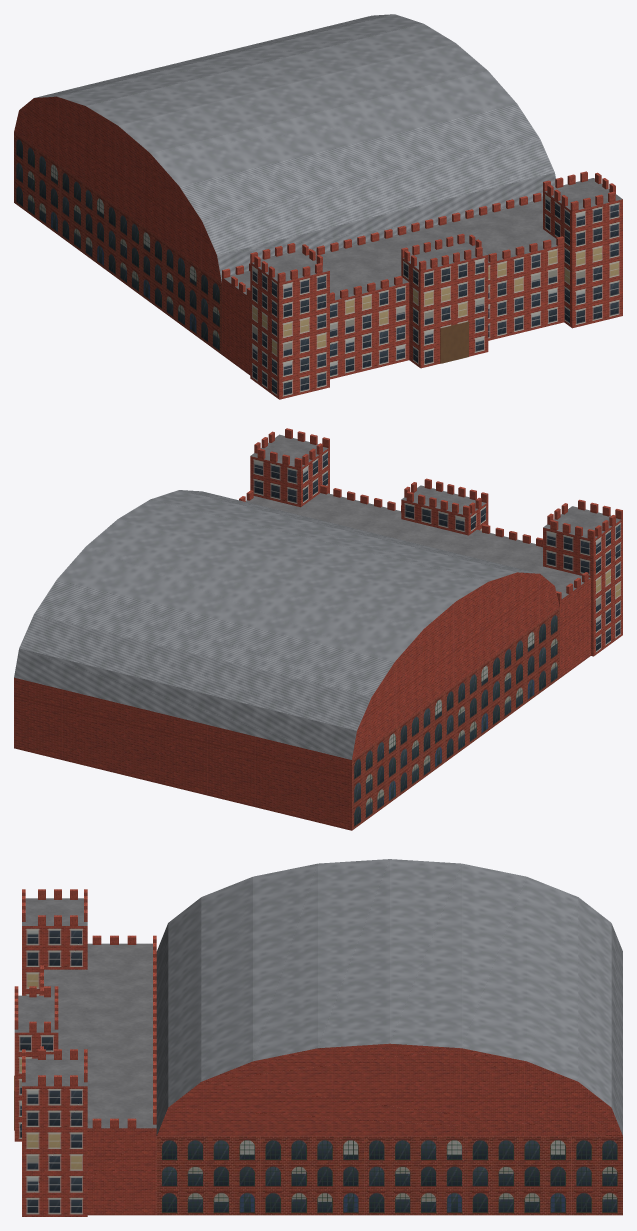
The model's file is 085_armory.glb.
The picture shows the model from 3 angles, top to bottom: view 1: azimuth 30°, elevation 25°; view 2: azimuth 150°, elevation 25°; view 3: azimuth 270°, elevation 25°; orthographic projection. The views are drawn at different scales.
Parts seen in each view (by area): view 1: 085_armory; view 2: 085_armory; view 3: 085_armory.
Boxes of the visible parts, <box> form: 085_armory: <box>14,14,622,399</box>; 085_armory: <box>14,428,622,830</box>; 085_armory: <box>14,859,622,1216</box>.
Bounding box in the file's own units: 61 × 26 × 83.6.
6 materials, 6 textured.
